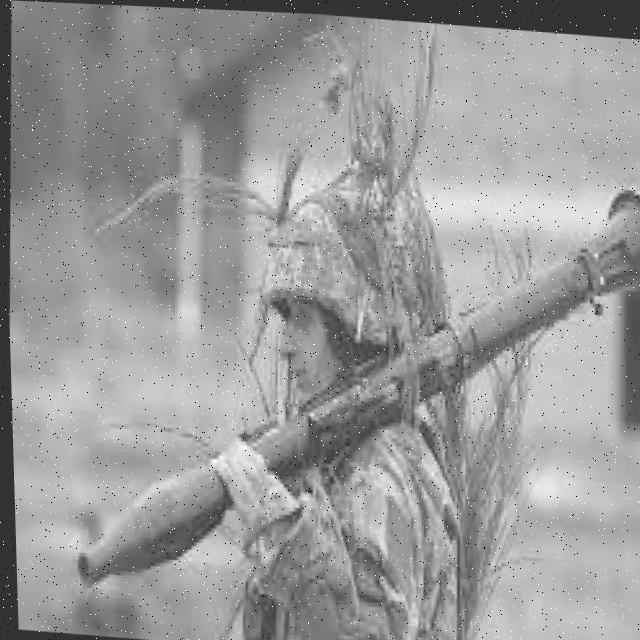rocket: (60, 130, 640, 620)
